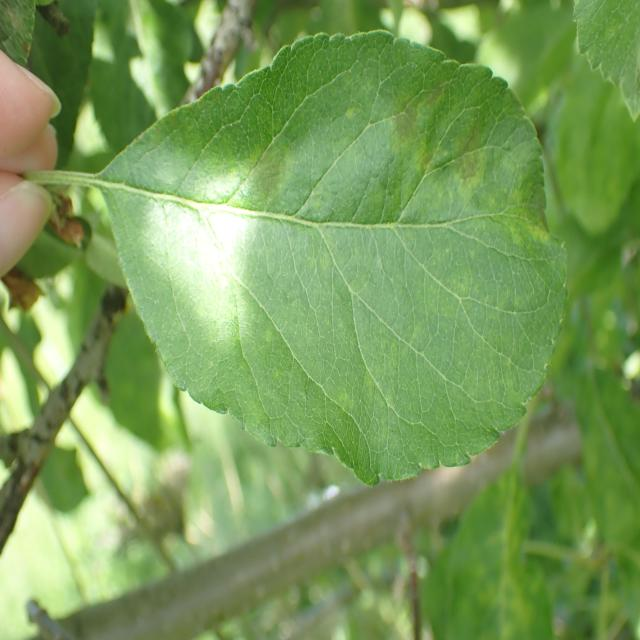scab: (204, 75, 558, 327)
